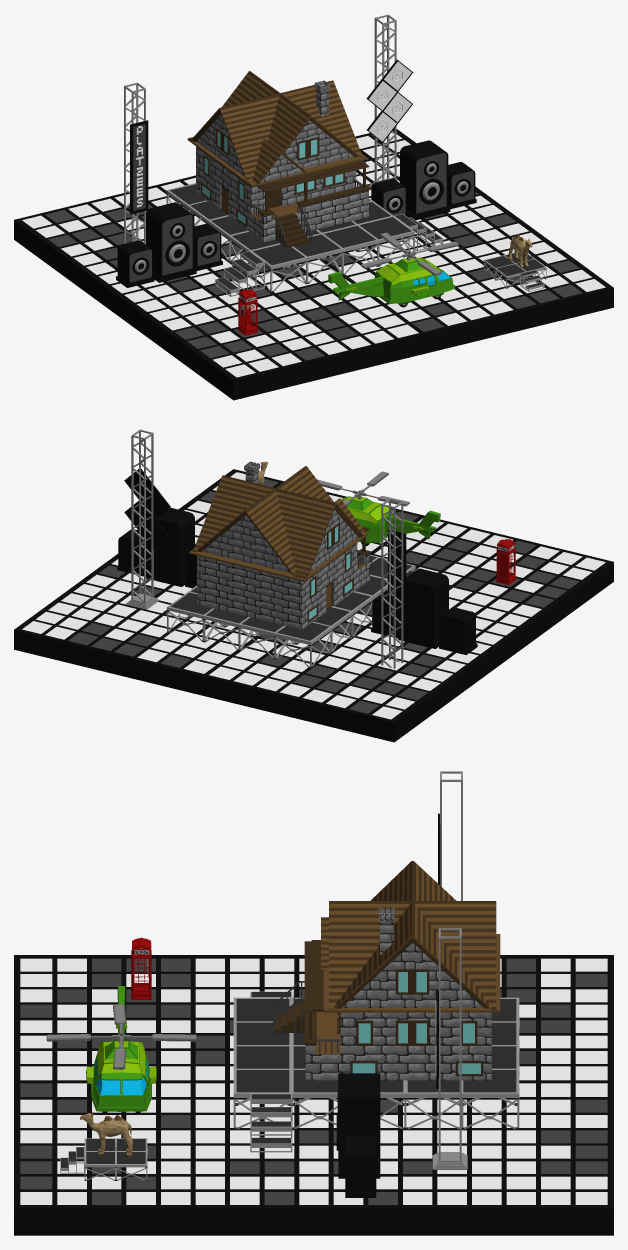
3 renders of one model, top to bottom at view 1: azimuth 30°, elevation 25°; view 2: azimuth 150°, elevation 25°; view 3: azimuth 270°, elevation 25°, orthographic. The views are drawn at different scales.
Parts seen in each view (by area): view 1: Cube.008, Cube.586, VEHICLES_HELICOPTER, OBJRANDOM_PHONEBOOTH; view 2: Cube.008, Cube.586, VEHICLES_HELICOPTER, OBJRANDOM_PHONEBOOTH; view 3: Cube.008, Cube.586, VEHICLES_HELICOPTER, OBJRANDOM_PHONEBOOTH, ANIMAL_CAMELLO.
Part boxes in pixels (x1=…): Cube.008: x1=14, y1=14, x2=613, y2=400; Cube.586: x1=187, y1=71, x2=371, y2=248; VEHICLES_HELICOPTER: x1=328, y1=232, x2=459, y2=307; OBJRANDOM_PHONEBOOTH: x1=238, y1=289, x2=257, y2=335; Cube.008: x1=14, y1=429, x2=613, y2=742; Cube.586: x1=189, y1=461, x2=372, y2=629; VEHICLES_HELICOPTER: x1=317, y1=471, x2=440, y2=546; OBJRANDOM_PHONEBOOTH: x1=496, y1=539, x2=516, y2=585; Cube.008: x1=14, y1=771, x2=613, y2=1235; Cube.586: x1=272, y1=861, x2=500, y2=1080; VEHICLES_HELICOPTER: x1=46, y1=986, x2=196, y2=1112; OBJRANDOM_PHONEBOOTH: x1=131, y1=937, x2=151, y2=999; ANIMAL_CAMELLO: x1=80, y1=1112, x2=132, y2=1156.
Bounding box in the file's own units: 4000 × 1950 × 4000.
45 materials, 2 textured.
